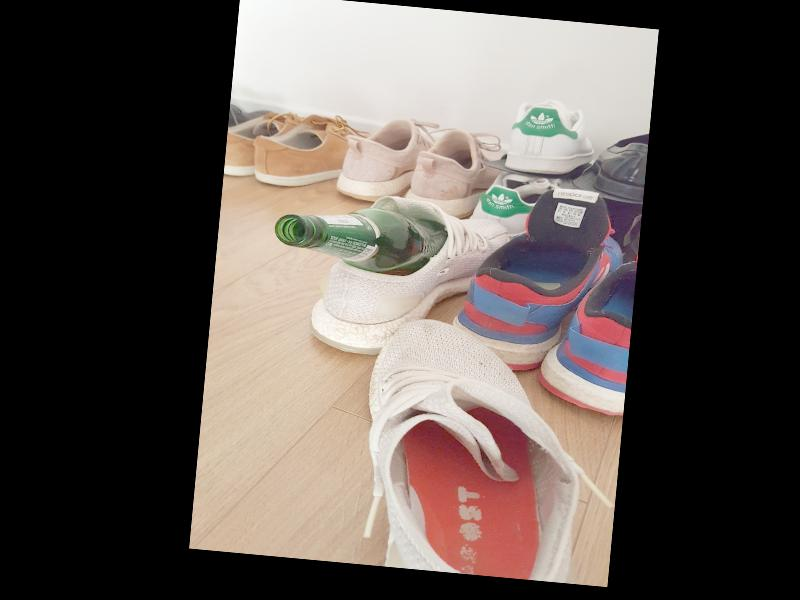Beer: (271, 201, 448, 278)
